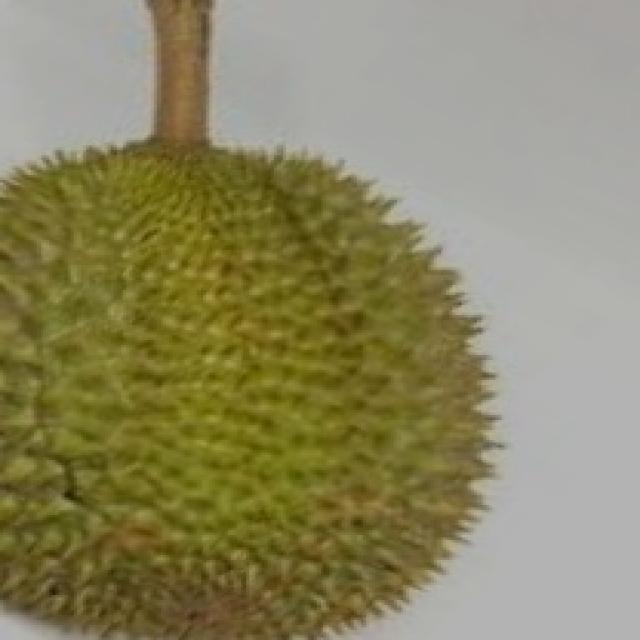fruit: (3, 265, 357, 640)
